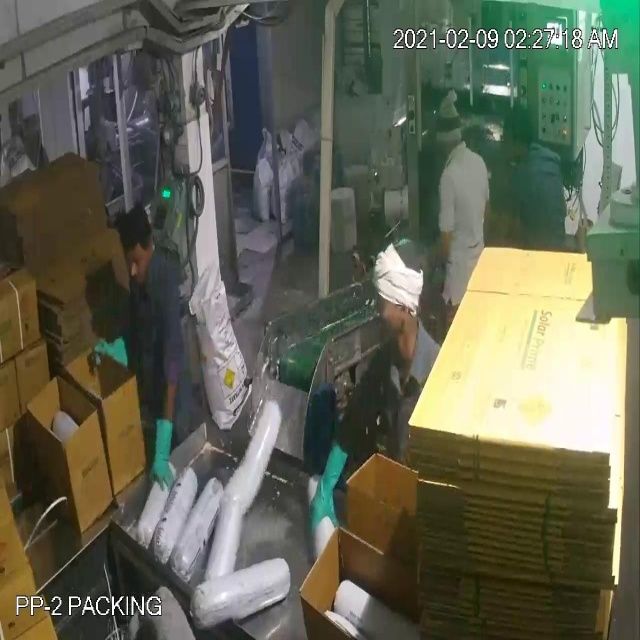Guantes: (305, 437, 350, 540), (147, 407, 184, 493), (86, 326, 138, 383)
Sin_guantes: (404, 227, 459, 280)
